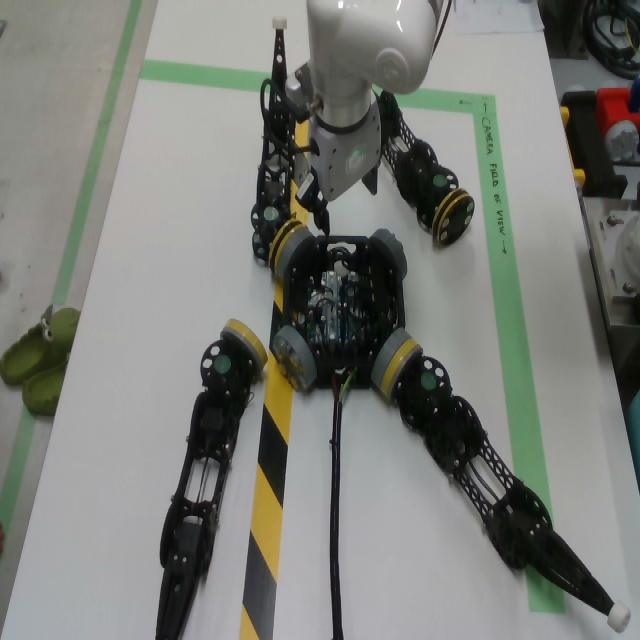body: (283, 236, 406, 391)
body_connector: (273, 325, 317, 391), (371, 328, 412, 388), (276, 227, 315, 279), (370, 229, 408, 281)
gripper: (295, 92, 382, 237)
leg: (381, 339, 632, 633), (155, 319, 268, 640), (379, 91, 475, 247), (251, 16, 305, 273)
leg_connector: (381, 339, 423, 400), (432, 188, 475, 247), (220, 319, 268, 368), (268, 219, 304, 273)
leg_marker: (214, 355, 231, 373), (422, 372, 436, 391), (264, 207, 279, 221), (433, 175, 447, 187)
